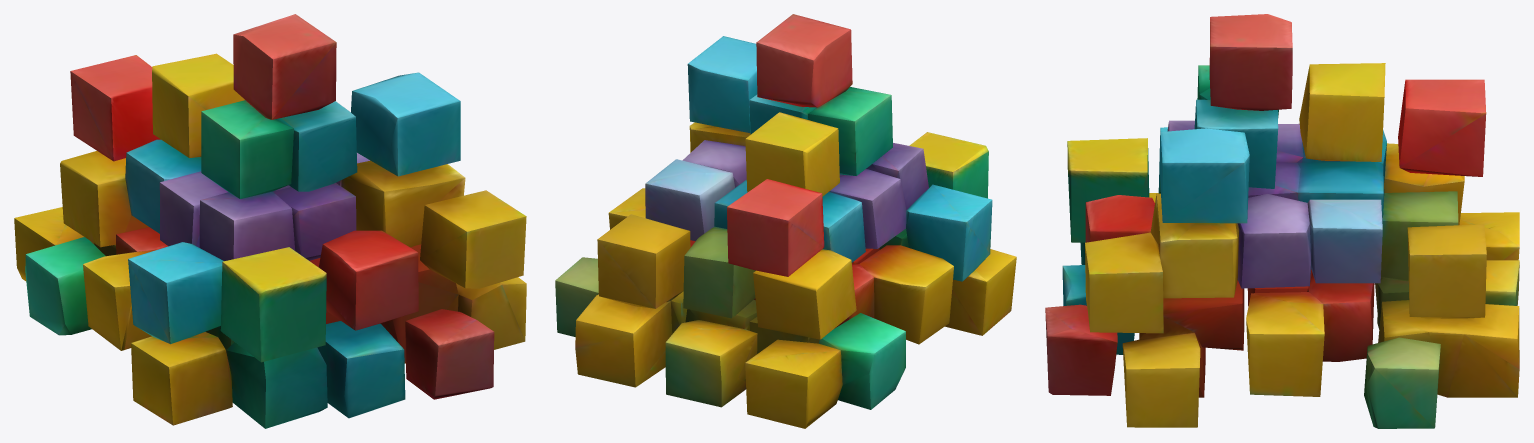
Rendered from m2ToyBlocks.glb.
3 views of the same model, side by side, from view 1: azimuth 30°, elevation 25°; view 2: azimuth 150°, elevation 25°; view 3: azimuth 270°, elevation 25° (orthographic). The views are drawn at different scales.
Visible parts, largest first — view 1: model; view 2: model; view 3: model.
Boxes of the visible parts, box(x1,y1,x2,y2) form: model: box(14, 14, 526, 428); model: box(555, 14, 1016, 428); model: box(1045, 14, 1519, 428).
Size of the model in its own units: 1.68 by 1.38 by 1.9.
Materials: 1 (1 with a texture image).
